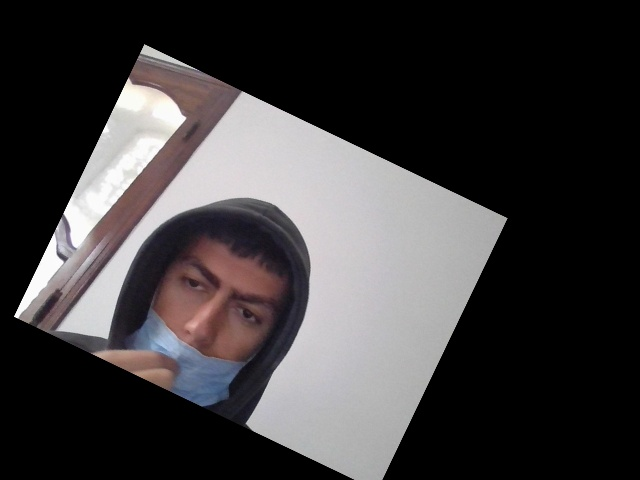mask_weared_incorrect: (130, 222, 294, 414)
